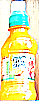orange: (1, 1, 37, 100)
